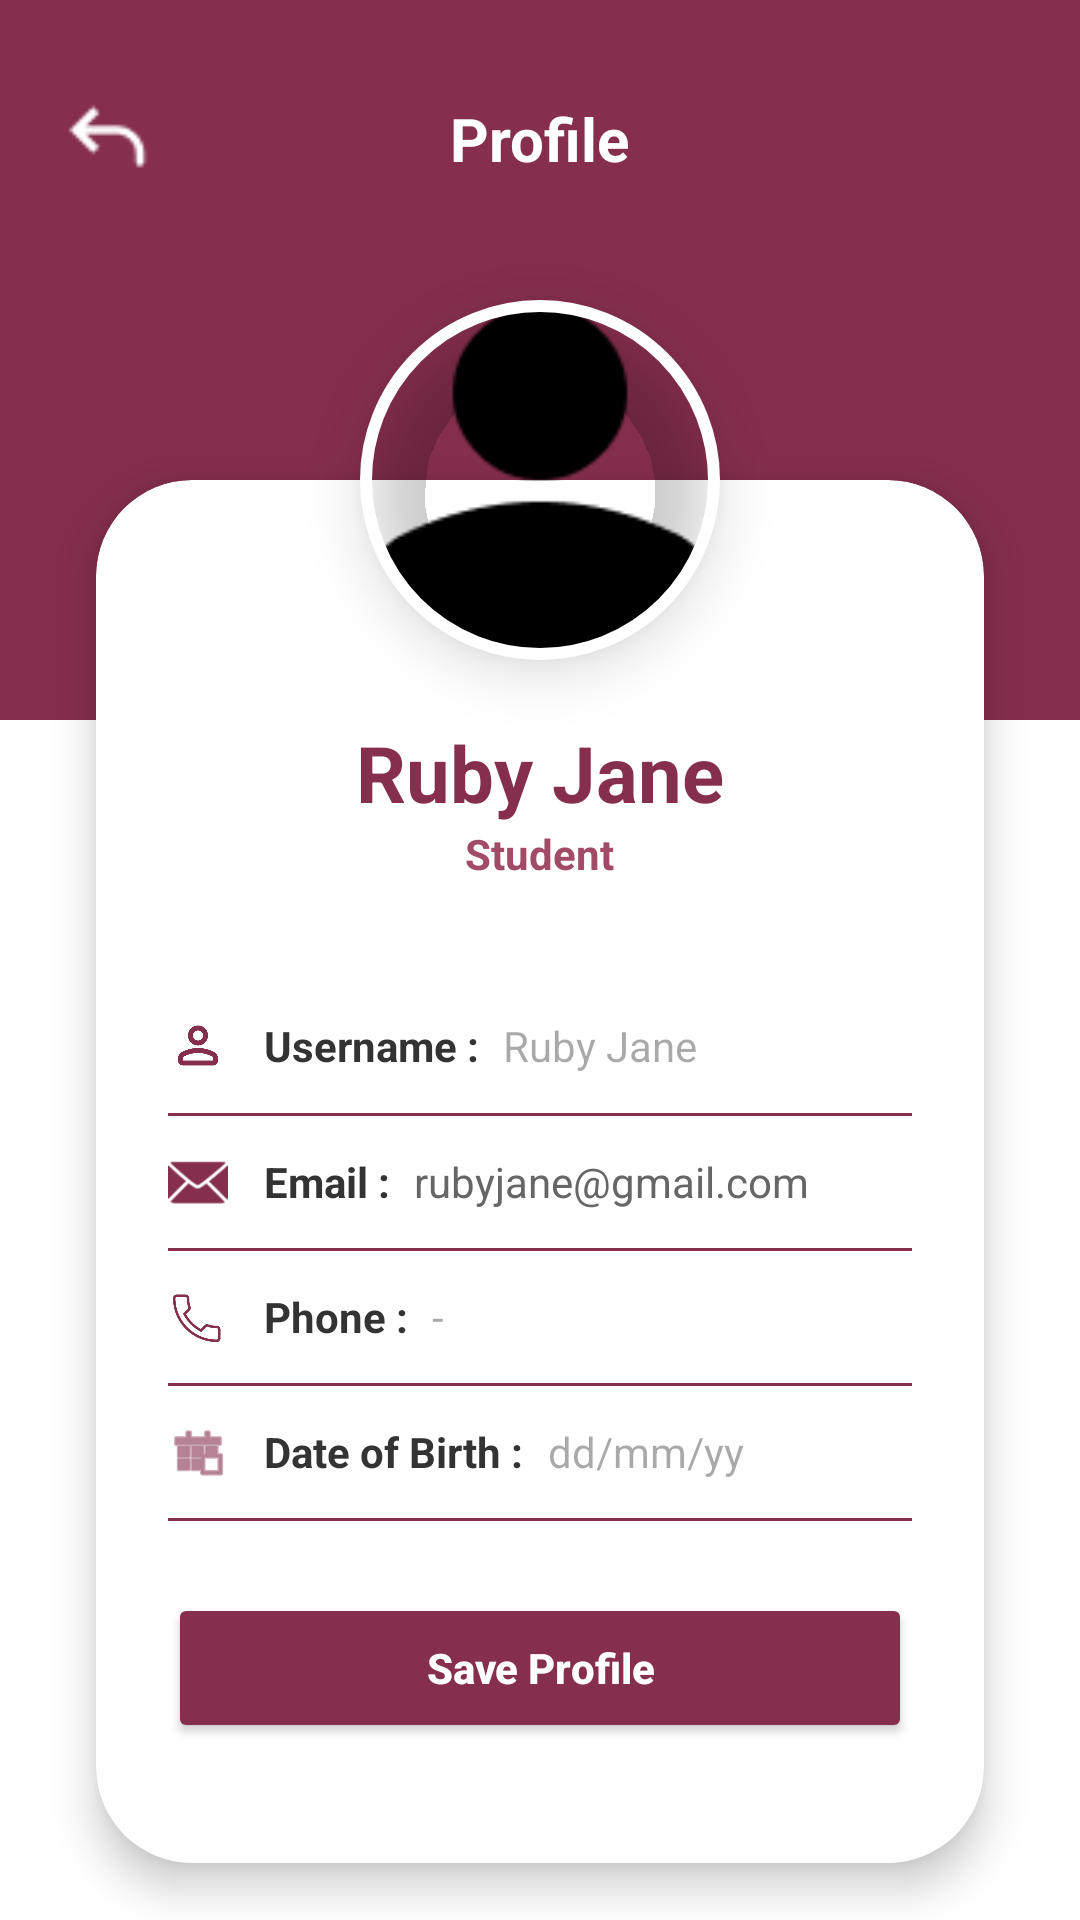

Named icons in this screenshot (1080w x 1920h) and their centers, (x,y):
back: (108,136)
fotoprofil: (540,480)
telepon: (197,1318)
today: (198,1453)
